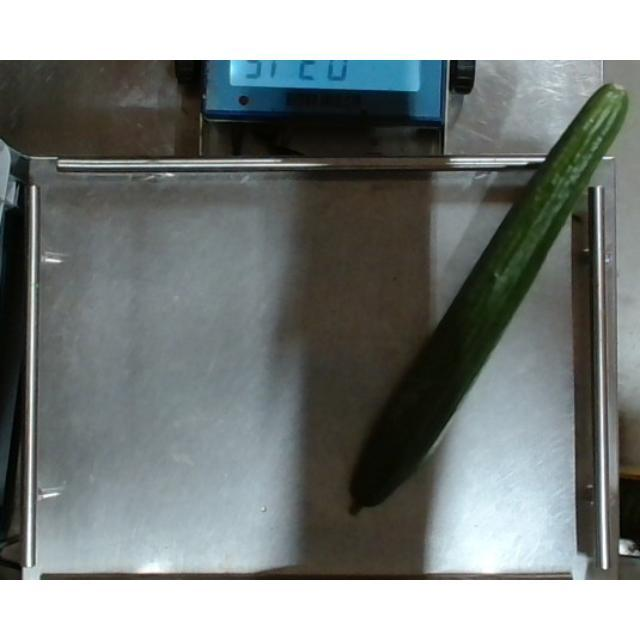cucumber: (346, 84, 630, 518)
